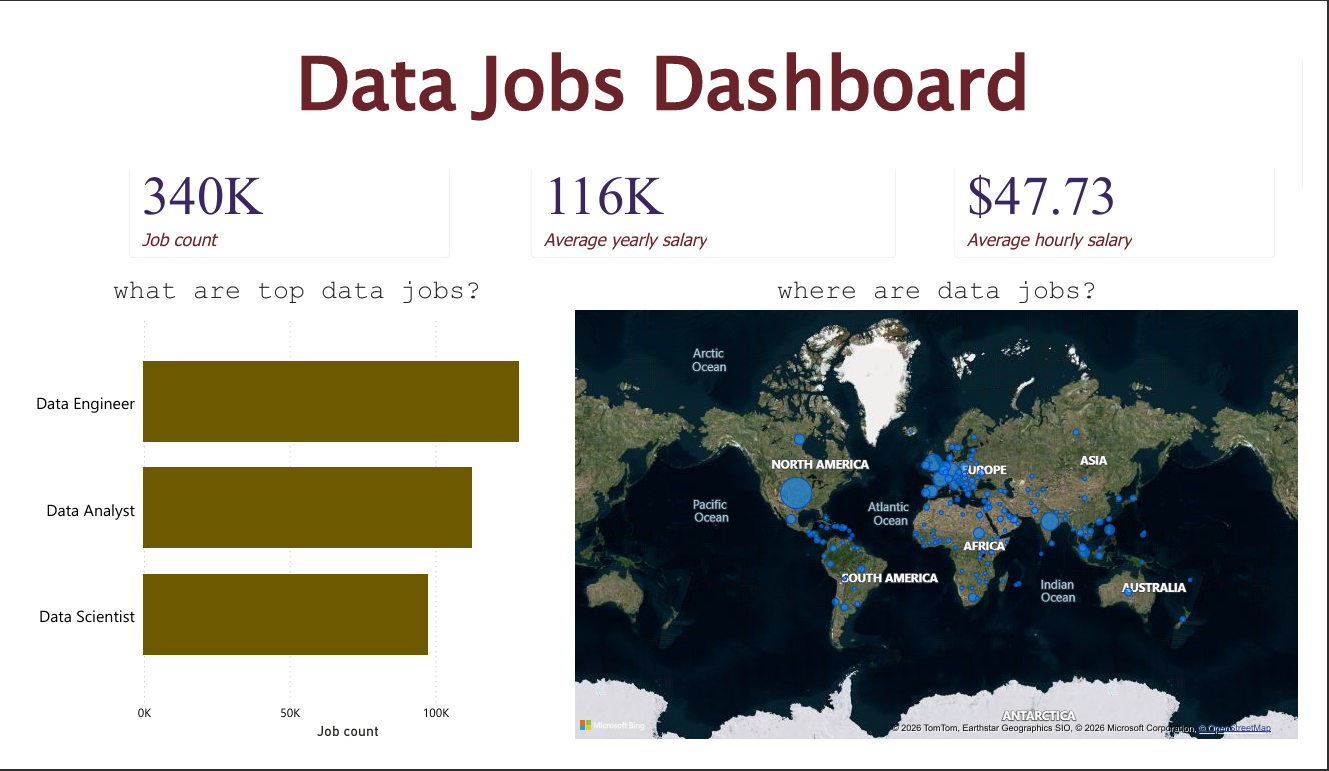

The page's visual inventory and layout, read from the dashboard file:
{"tool":"powerbi","page":{"name":"Data Jobs","canvas":[1280,720],"ordinal":0},"visuals":[{"type":"cardVisual","fields":{"Data":["CountNonNull(job_postings_flat.job_title_short)"]},"box":[89.2,115.3,355.4,135.8],"z":0},{"type":"cardVisual","fields":{"Data":["Avg(job_postings_flat.salary_year_avg)"]},"box":[491.3,115.3,399.3,135.8],"z":1000},{"type":"cardVisual","fields":{"Data":["Avg(job_postings_flat.salary_hour_avg)"]},"box":[913.9,115.3,355.4,135.8],"z":2000},{"type":"clusteredBarChart","title":"what are top data jobs?","fields":{"Category":["job_postings_flat.job_title_short"],"Y":["CountNonNull(job_postings_flat.job_title_short)"]},"box":[0,251.1,547.5,469.3],"z":3000},{"type":"map","title":"where are data jobs?","fields":{"Category":["job_postings_flat.job_country"],"Size":["CountNonNull(job_postings_flat.job_title_short)"]},"box":[547.5,251.1,732.8,469.3],"z":4000},{"type":"textbox","box":[0,0,1280.3,145.5],"z":5000}]}

Visuals, with their boxes in screenshot pixels (x1, y1, x2, y2):
cardVisual - CountNonNull(job_postings_flat.job_title_short): [x1=119, y1=173, x2=470, y2=307]
cardVisual - Avg(job_postings_flat.salary_year_avg): [x1=516, y1=173, x2=911, y2=307]
cardVisual - Avg(job_postings_flat.salary_hour_avg): [x1=934, y1=173, x2=1285, y2=307]
"what are top data jobs?" clusteredBarChart: [x1=31, y1=307, x2=572, y2=770]
"where are data jobs?" map: [x1=572, y1=307, x2=1296, y2=770]
textbox: [x1=31, y1=59, x2=1296, y2=203]
